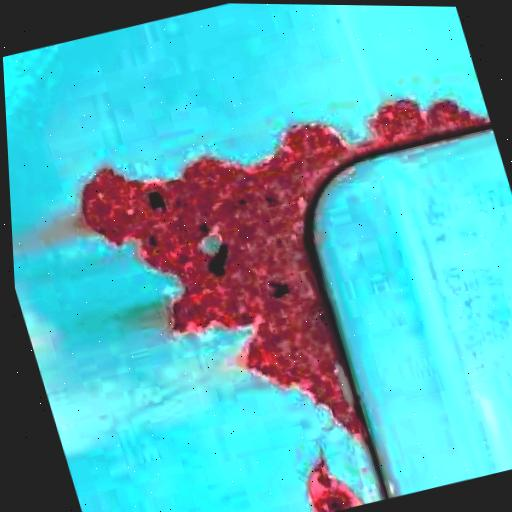corrosion: (58, 97, 371, 487), (265, 52, 494, 181), (283, 444, 374, 512)
